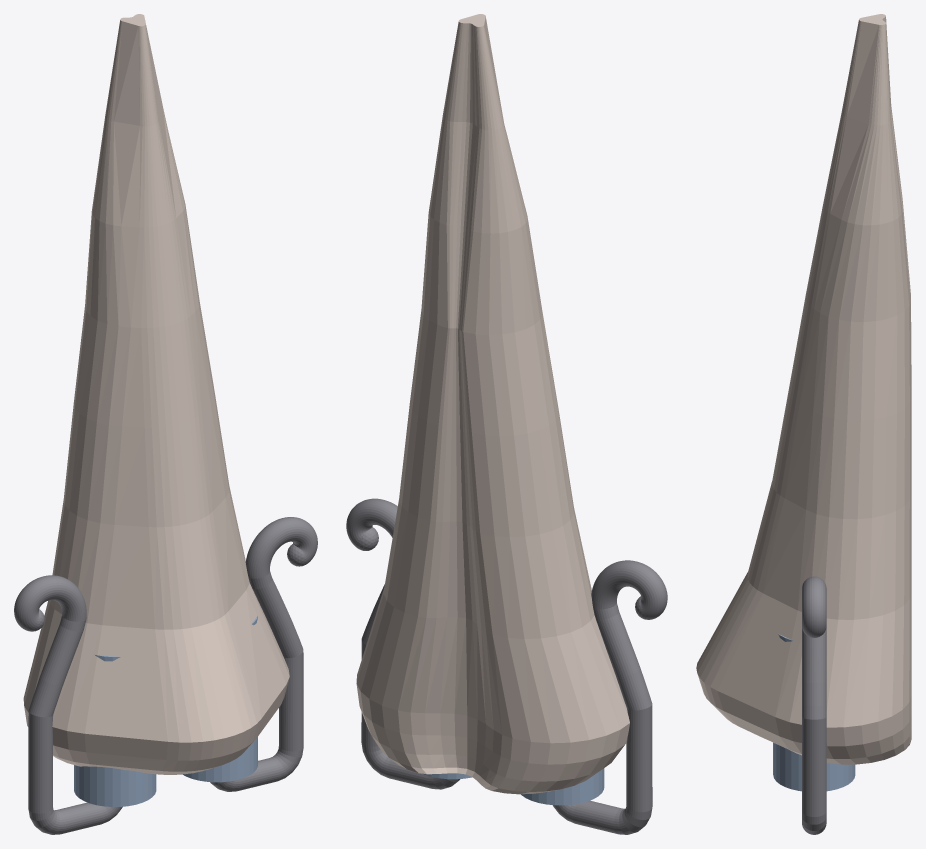
File: candidate_low_weight.glb
3 renders of one model, left to right at view 1: azimuth 30°, elevation 25°; view 2: azimuth 150°, elevation 25°; view 3: azimuth 270°, elevation 25°, orthographic. The views are drawn at different scales.
Visible parts, largest first — view 1: body, frame_left, frame_right, plug_left, plug_right; view 2: body, frame_left, frame_right, plug_left; view 3: body, frame_right, plug_right.
Part boxes in pixels (x1,y1,x2,y2): body: (23, 14, 289, 774); frame_left: (14, 575, 122, 834); frame_right: (210, 517, 317, 791); plug_left: (74, 655, 156, 806); plug_right: (182, 615, 257, 782); body: (356, 14, 629, 794); frame_left: (552, 560, 667, 834); frame_right: (346, 498, 460, 789); plug_left: (521, 768, 604, 805); body: (696, 14, 911, 764); frame_right: (802, 576, 826, 834); plug_right: (773, 634, 855, 791).
Size of the model in its own units: 25.17 by 61.2 by 15.7.
